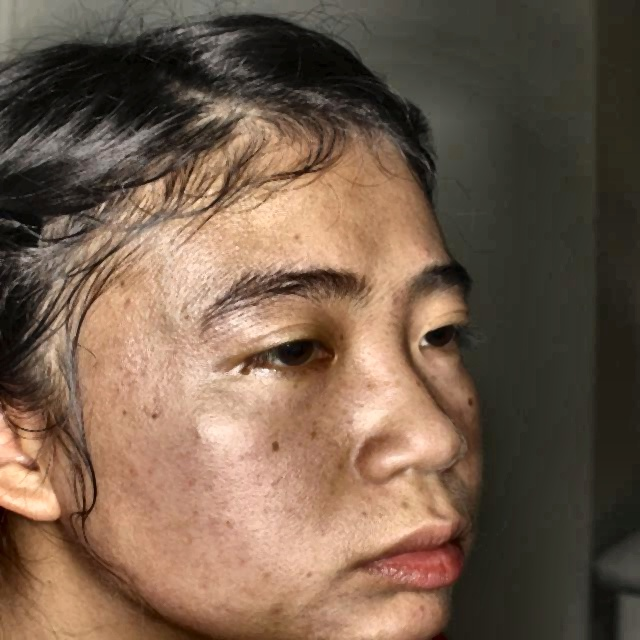comedone: (413, 238, 438, 258)
